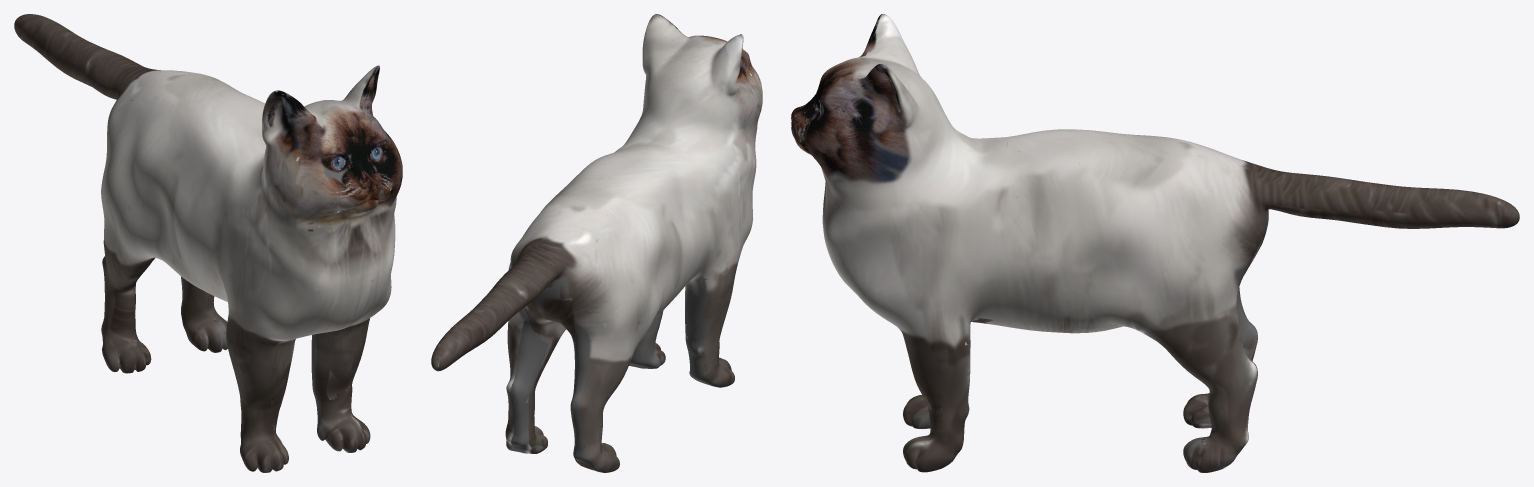
The model's file is Colourpoint(Himalayan).gltf.
3 views of the same model, side by side, from view 1: azimuth 30°, elevation 25°; view 2: azimuth 150°, elevation 25°; view 3: azimuth 270°, elevation 25° (orthographic). The views are drawn at different scales.
Visible parts, largest first — view 1: Cat_Base_1.002; view 2: Cat_Base_1.002; view 3: Cat_Base_1.002.
Part boxes in pixels (left/top/right/bottom): Cat_Base_1.002: left=14, top=14, right=402, bottom=472; Cat_Base_1.002: left=431, top=14, right=762, bottom=472; Cat_Base_1.002: left=791, top=14, right=1519, bottom=472.
Bounding box in the file's own units: 1.54 × 3.78 × 6.17.
1 material, 1 textured.
